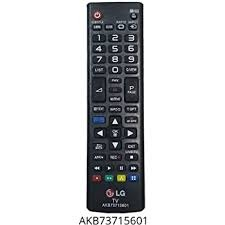remote control: (88, 5, 145, 212)
